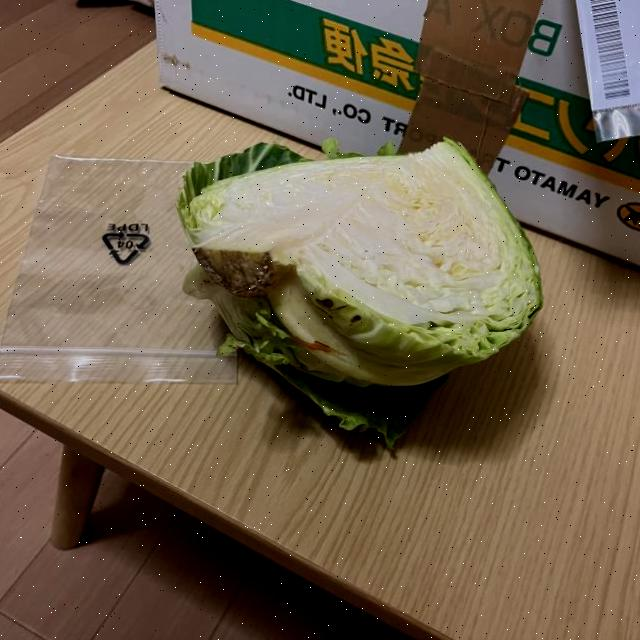cabbage: (172, 138, 542, 461)
